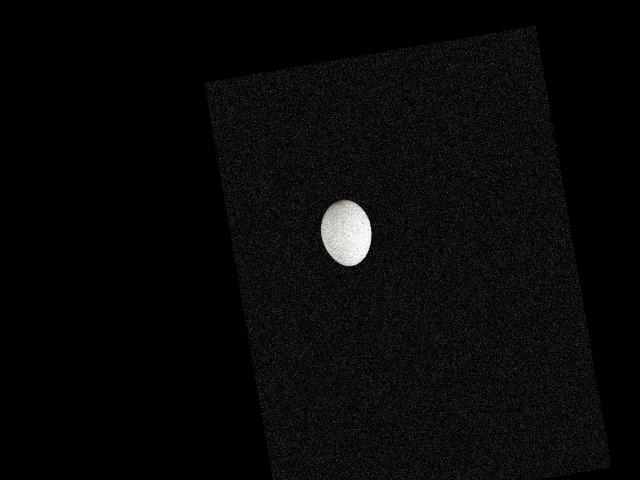egg: (316, 195, 377, 269)
